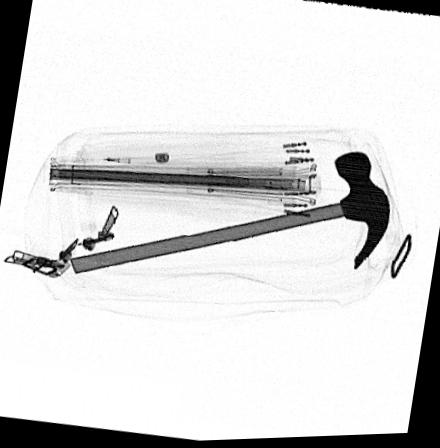Hammer: (67, 154, 391, 275)
